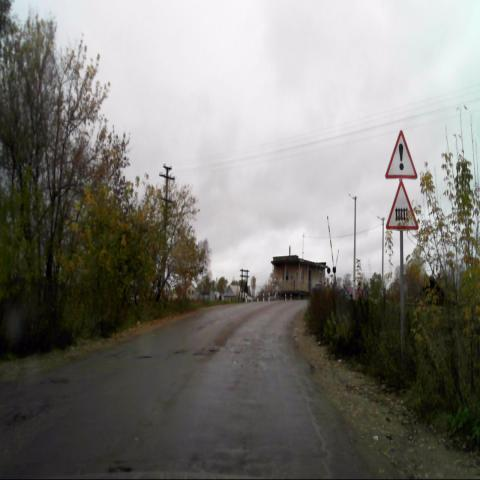1_1: (386, 181, 420, 230)
1_33: (385, 130, 417, 180)
